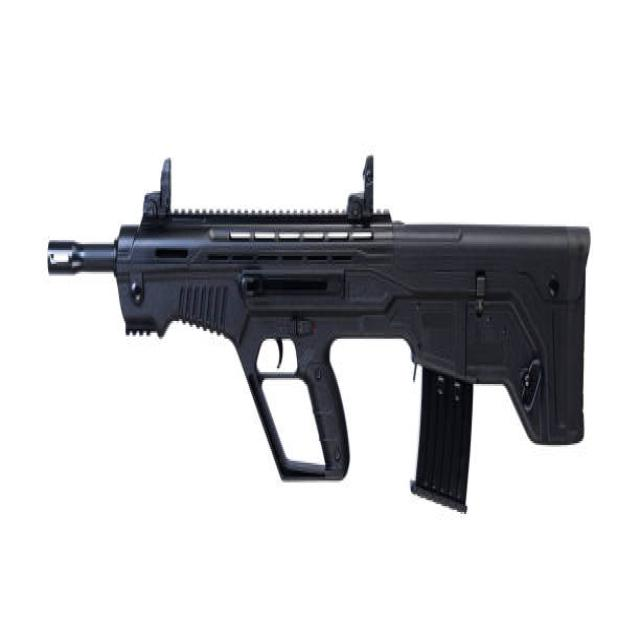rifle: (36, 146, 602, 541)
